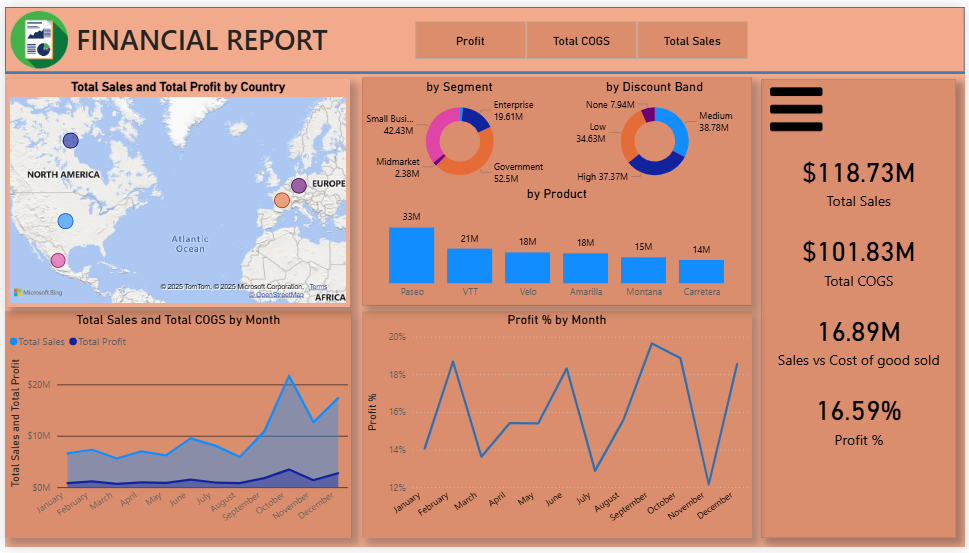

Layout of this report page (visuals, bound fields, positions):
{"tool":"powerbi","page":{"name":"Financial Report","canvas":[1280,720],"ordinal":0},"visuals":[{"type":"shape","box":[476,94,520,304],"z":0},{"type":"shape","box":[1008,96,260,612],"z":1000},{"type":"shape","box":[0,0,1280,176],"z":2000},{"type":"shape","box":[0,0,1279.4,86.9],"z":3000},{"type":"image","box":[0,0,90.7,86.9],"z":4000},{"type":"textbox","box":[90.3,11.1,352.1,66.4],"z":5000},{"type":"advancedSlicerVisual","fields":{"Values":["Metrics.Measures"]},"box":[542,14,454,60],"z":11000},{"type":"map","title":"Total Sales and Total Profit by Country","fields":{"Category":["financials.Country"],"Series":["financials.Country"],"Size":["All Measures.Measure Logic"]},"box":[2,96,458,304],"z":12000},{"type":"areaChart","title":"Total Sales and Total COGS by Month","fields":{"Category":["Date Table.Date.Variation.Date Hierarchy.Month"],"Y":["All Measures.Total Sales","All Measures.Total Profit"]},"box":[0,406,462,302],"z":16000},{"type":"card","fields":{"Values":["All Measures.Total Sales"]},"box":[1022,176,232,106],"z":17000},{"type":"image","box":[1008,96,94,80],"z":18000},{"type":"card","fields":{"Values":["All Measures.Total COGS"]},"box":[1022,282,232,106],"z":19000},{"type":"card","fields":{"Values":["All Measures.Sales vs Cost of good sold"]},"box":[1022,388,232,106],"z":20000},{"type":"card","fields":{"Values":["All Measures.Profit %"]},"box":[1022,494,232,106],"z":21000},{"type":"lineChart","fields":{"Y":["All Measures.Profit %"],"Category":["Date Table.Date.Variation.Date Hierarchy.Month"]},"box":[476,406,520,302],"z":23000},{"type":"donutChart","title":"by Segment","fields":{"Y":["All Measures.Measure Logic"],"Series":["financials.Segment"]},"box":[476,96,260,146],"z":24000},{"type":"columnChart","title":"by Product","fields":{"Category":["financials.Product"],"Y":["All Measures.Measure Logic"]},"box":[476,238,520,160],"z":24500},{"type":"donutChart","title":"by Discount Band","fields":{"Category":["financials.Discount Band"],"Y":["All Measures.Measure Logic"]},"box":[736,96,260,146],"z":25000}]}

Visuals, with their boxes in screenshot pixels (x1, y1, x2, y2), scaled from the page's 1280x720 canvas onto the 969x553 screenshot:
shape: [360,72,754,306]
shape: [763,74,960,544]
shape: [0,0,968,135]
shape: [0,0,968,67]
image: [0,0,69,67]
textbox: [68,9,335,60]
advancedSlicerVisual - Metrics.Measures: [410,11,754,57]
"Total Sales and Total Profit by Country" map: [2,74,348,307]
"Total Sales and Total COGS by Month" areaChart: [0,312,350,544]
card - All Measures.Total Sales: [774,135,949,217]
image: [763,74,834,135]
card - All Measures.Total COGS: [774,217,949,298]
card - All Measures.Sales vs Cost of good sold: [774,298,949,379]
card - All Measures.Profit %: [774,379,949,461]
lineChart - All Measures.Profit % x Date Table.Date.Variation.Date Hierarchy.Month: [360,312,754,544]
"by Segment" donutChart: [360,74,557,186]
"by Product" columnChart: [360,183,754,306]
"by Discount Band" donutChart: [557,74,754,186]
